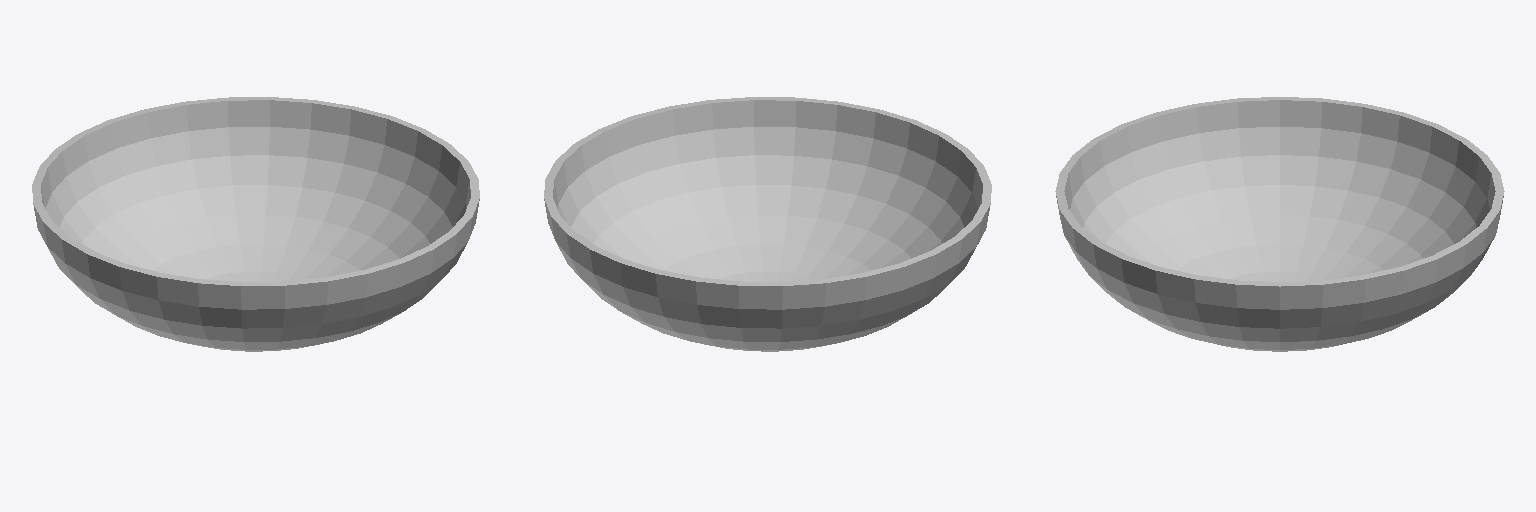
Rendered from bowl.obj.
3 views of the same model, side by side, from view 1: azimuth 30°, elevation 25°; view 2: azimuth 150°, elevation 25°; view 3: azimuth 270°, elevation 25° (orthographic).
Visible parts, largest first — view 1: Sphere; view 2: Sphere; view 3: Sphere.
Boxes of the visible parts, x1,y1,x2,y2 form: Sphere: [32, 97, 479, 351]; Sphere: [544, 97, 991, 351]; Sphere: [1055, 97, 1504, 351].
Bounding box in the file's own units: 2 × 0.6376 × 2.